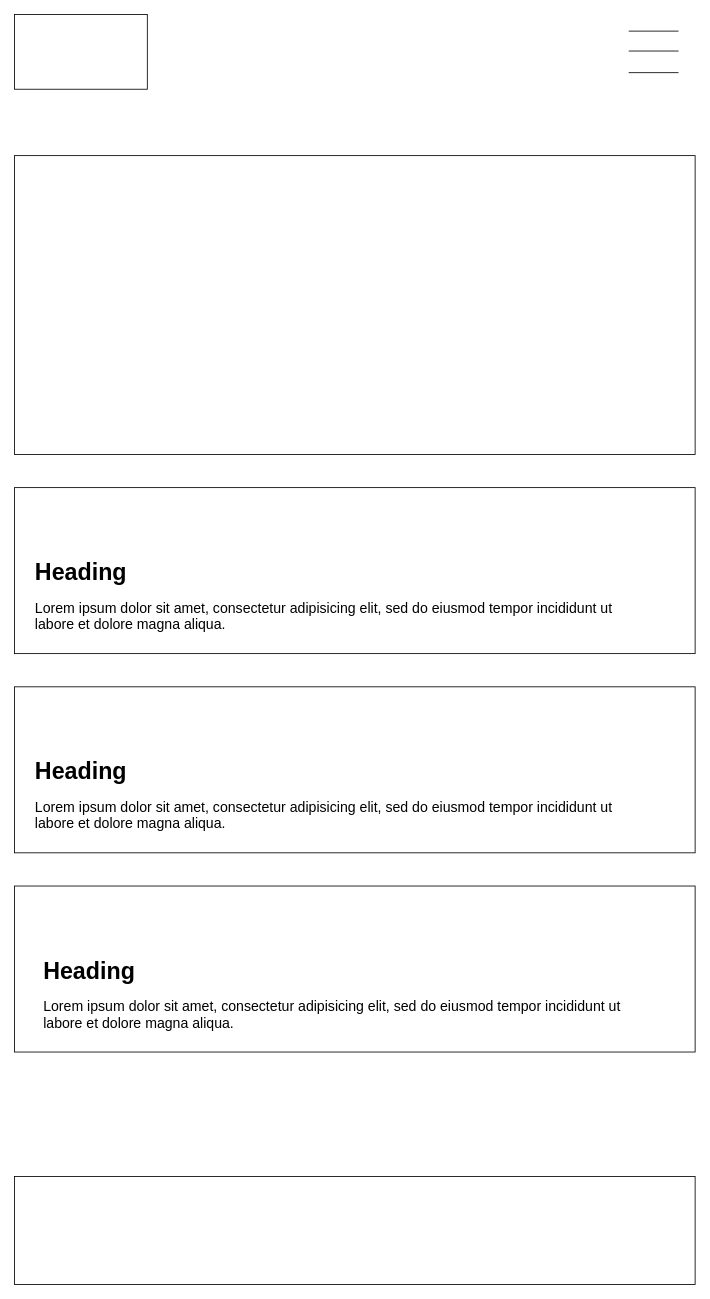
Some shapes in this 710 by 1299 pixel diagram are drawn without their labels. The shapes that lost their labels are listed below. From the top down, each one's centre as x and y in pixels, then its label:
At point (80, 51): "Logo".
At point (354, 1230): "Add Event".
